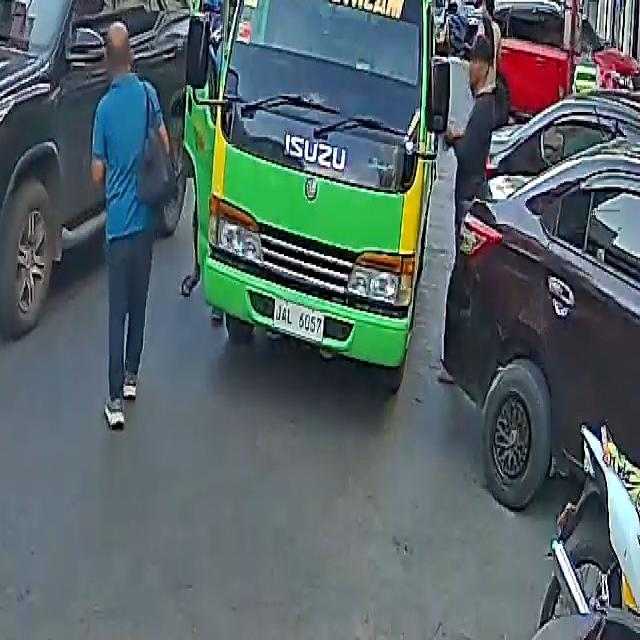car: (445, 96, 640, 513), (0, 0, 207, 332), (476, 0, 640, 117)
